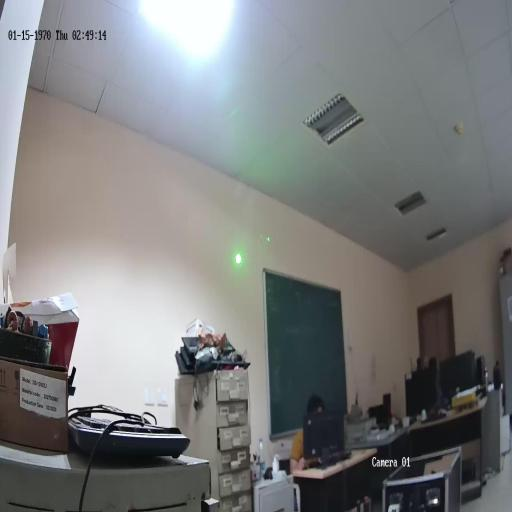laser: (234, 250, 243, 267)
